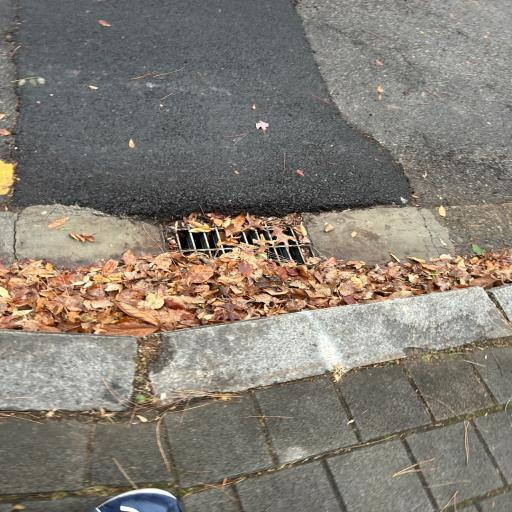debris: (165, 235, 327, 322), (183, 218, 310, 245)
drain: (160, 216, 328, 321)
